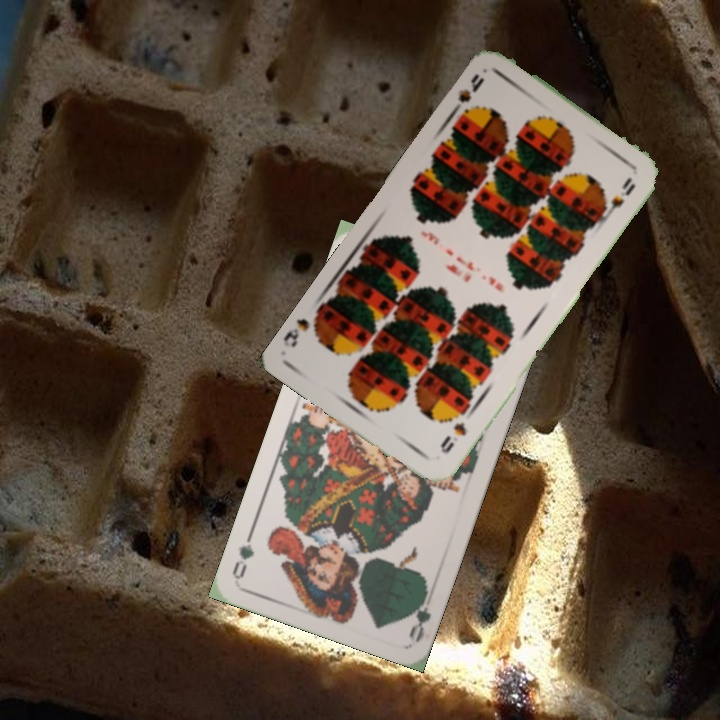GO: (404, 583, 434, 643)
S9: (447, 70, 487, 120), (436, 418, 469, 456)
